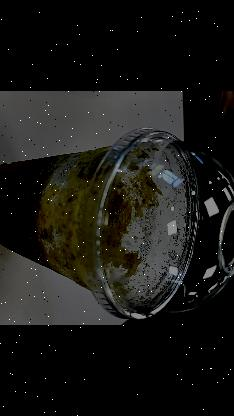Others: (0, 128, 234, 321), (77, 129, 234, 325)
